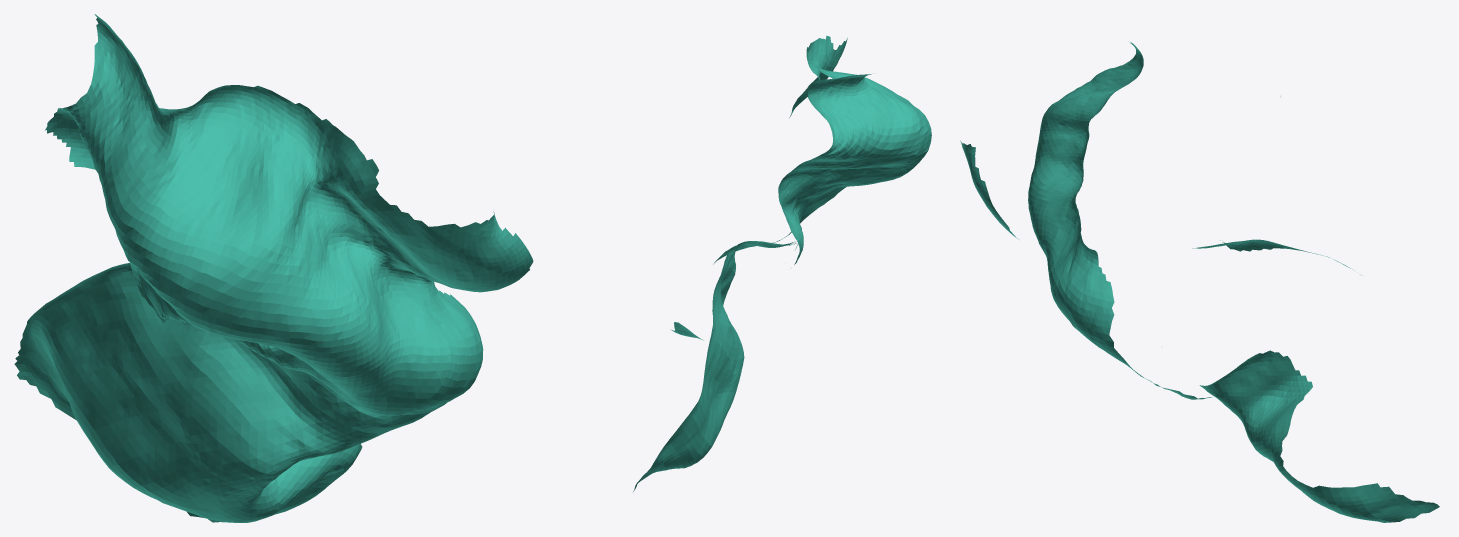
File: lh_superiorparietal.glb
3 renders of one model, left to right at view 1: azimuth 30°, elevation 25°; view 2: azimuth 150°, elevation 25°; view 3: azimuth 270°, elevation 25°, orthographic. The views are drawn at different scales.
Visible parts, largest first — view 1: world; view 2: world; view 3: world.
Boxes of the visible parts, x1,y1,x2,y2 form: world: (14, 14, 533, 522); world: (633, 35, 931, 491); world: (960, 42, 1439, 522).
Size of the model in its own units: 36.71 by 60.5 by 61.87.
